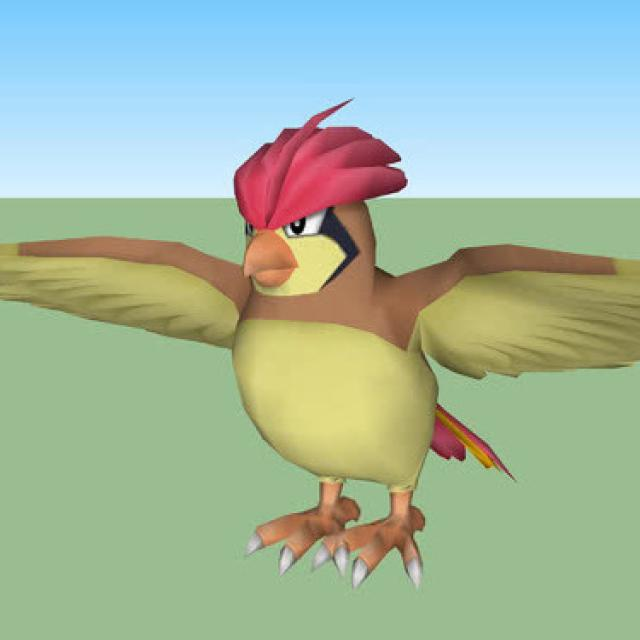Pidgeotto: (71, 105, 556, 596)
